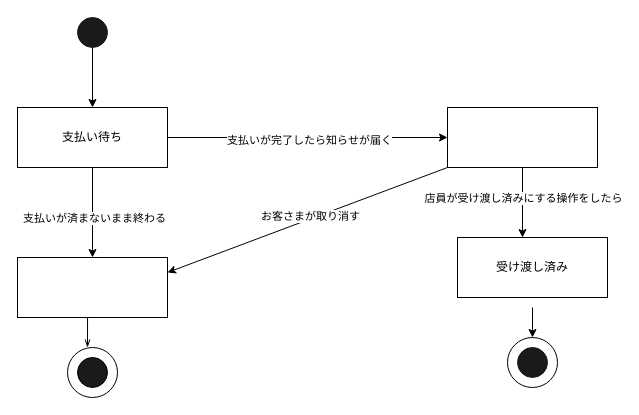
Image size: 639x415. Some labels were removed from this diagram. Here are the shapes that lost their labels. From the top down, the centre of each, then its label:
(522,137): 受け取り前
(92,287): 取り消し済み
